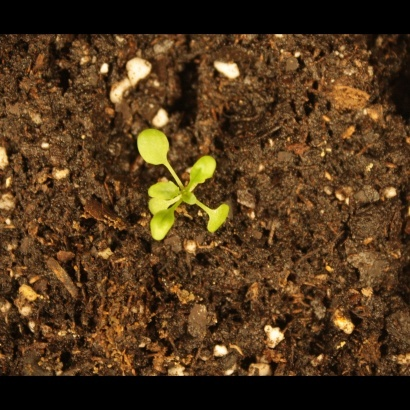leaf: (130, 127, 176, 169), (188, 147, 223, 192), (202, 203, 239, 241), (147, 210, 179, 249), (143, 175, 184, 200), (143, 193, 178, 217)
